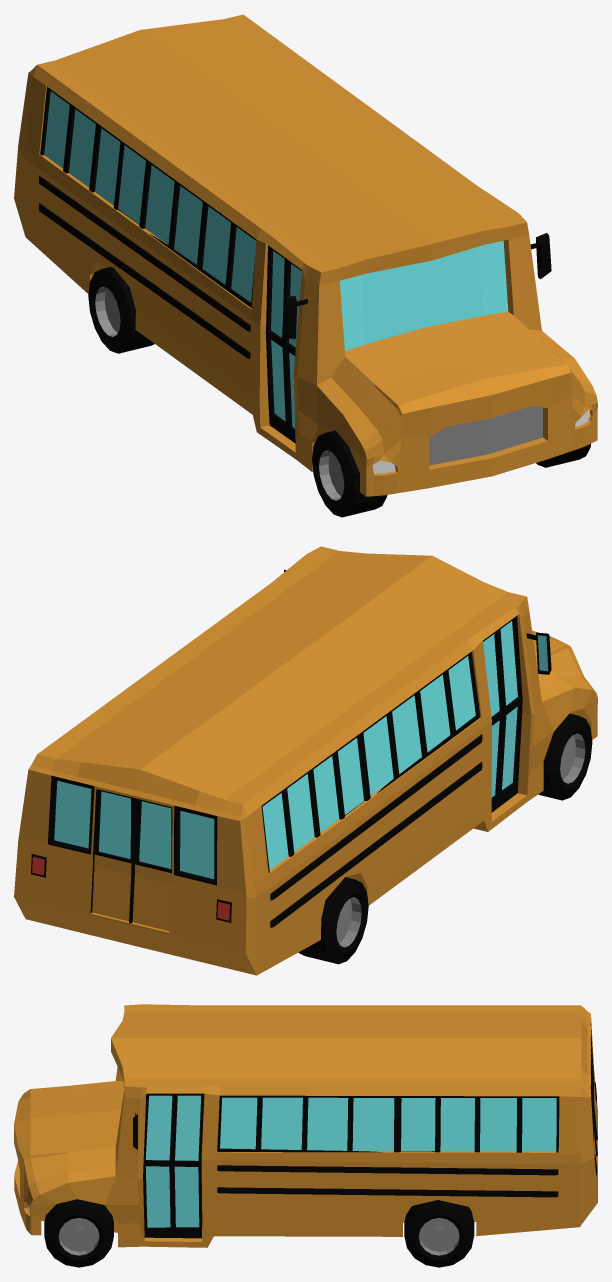
The model's file is schoolbus.gltf.
The picture shows the model from 3 angles, top to bottom: view 1: azimuth 30°, elevation 25°; view 2: azimuth 150°, elevation 25°; view 3: azimuth 270°, elevation 25°; orthographic projection. The views are drawn at different scales.
Visible parts, largest first — view 1: bus; view 2: bus; view 3: bus.
Boxes of the visible parts, x1,y1,x2,y2 form: bus: (14, 14, 597, 517); bus: (14, 546, 597, 975); bus: (14, 1004, 597, 1267).
Size of the model in its own units: 0.1043 by 0.0847 by 0.2452.
1 material, 1 textured.
